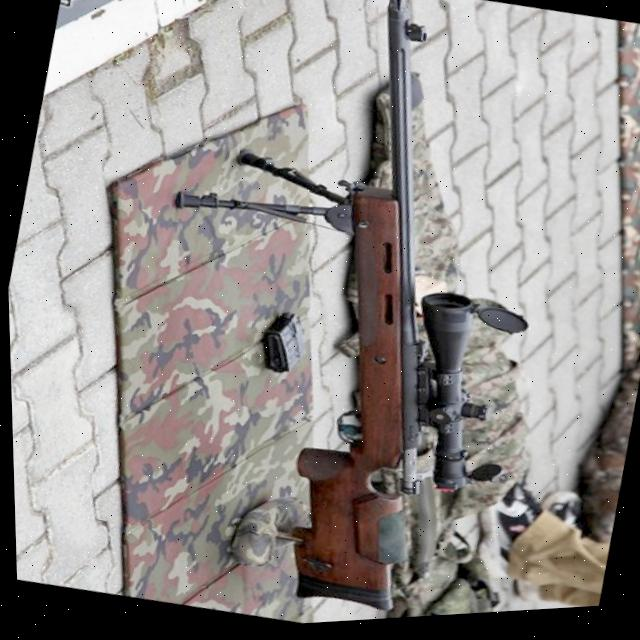firearm: (254, 0, 602, 628)
